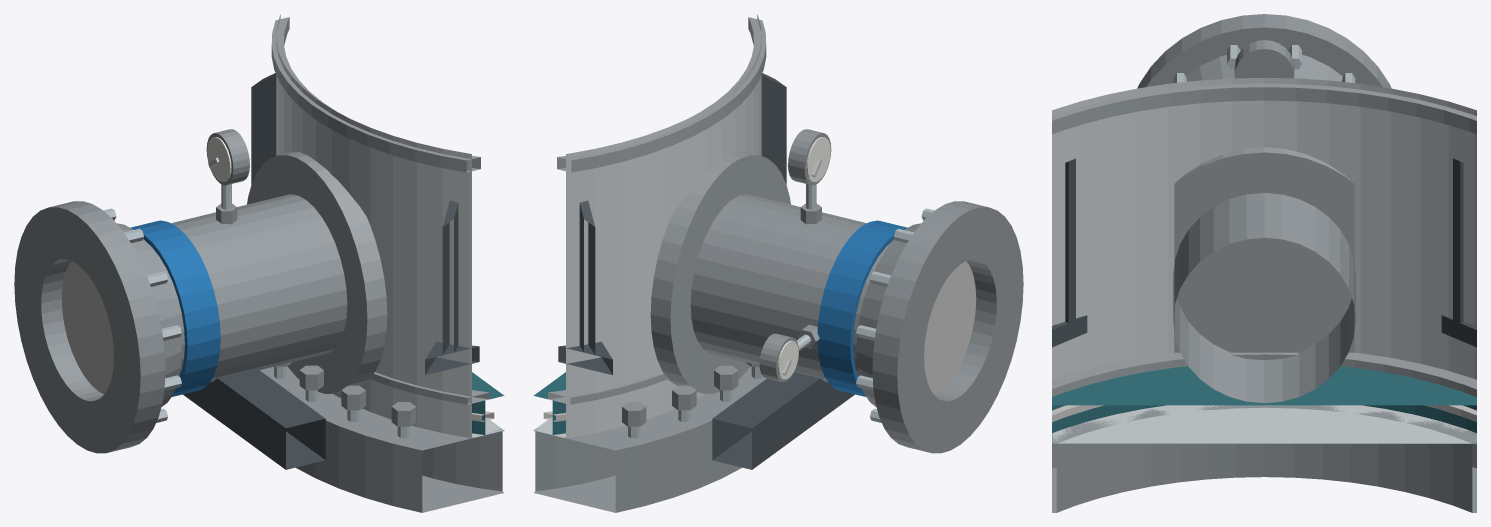
File: cell_21.obj
3 views of the same model, side by side, from view 1: azimuth 30°, elevation 25°; view 2: azimuth 150°, elevation 25°; view 3: azimuth 270°, elevation 25° (orthographic). The views are drawn at different scales.
Bounding box in the file's own units: 1 × 1 × 1.
